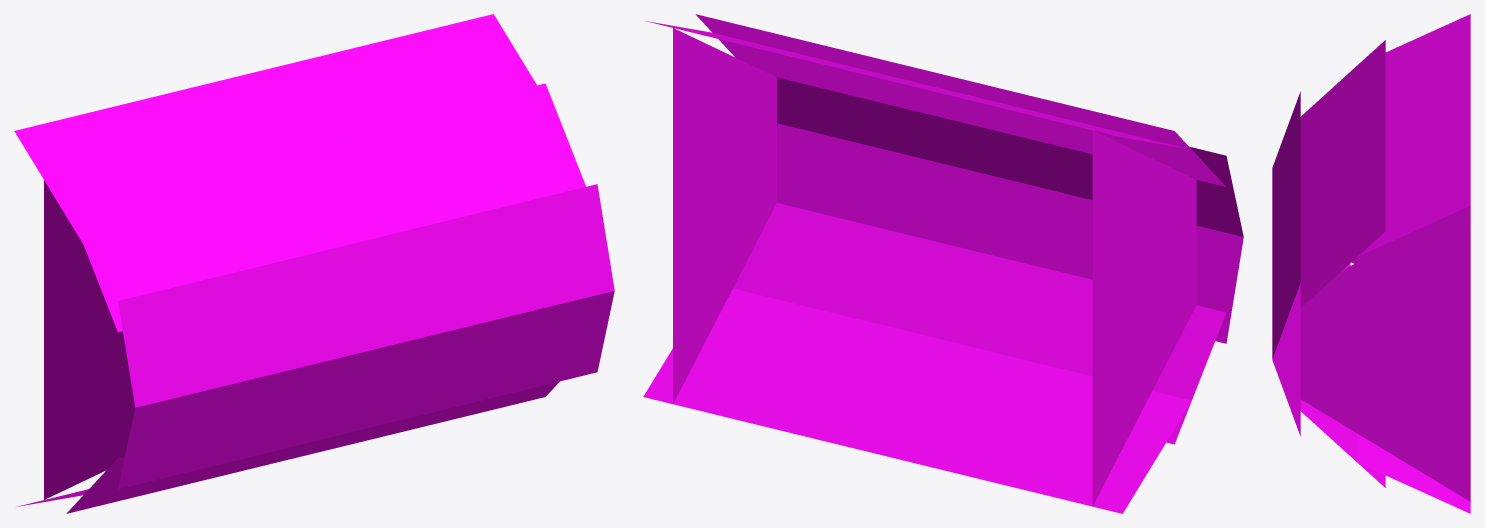
File: bush2.obj
3 renders of one model, left to right at view 1: azimuth 30°, elevation 25°; view 2: azimuth 150°, elevation 25°; view 3: azimuth 270°, elevation 25°, orthographic. The views are drawn at different scales.
Visible parts, largest first — view 1: bush2; view 2: bush2; view 3: bush2.
Boxes of the visible parts, <box> form: bush2: <box>14,14,614,513</box>; bush2: <box>643,14,1243,513</box>; bush2: <box>1272,14,1470,513</box>.
Size of the model in its own units: 1.28 by 0.96 by 0.56.
